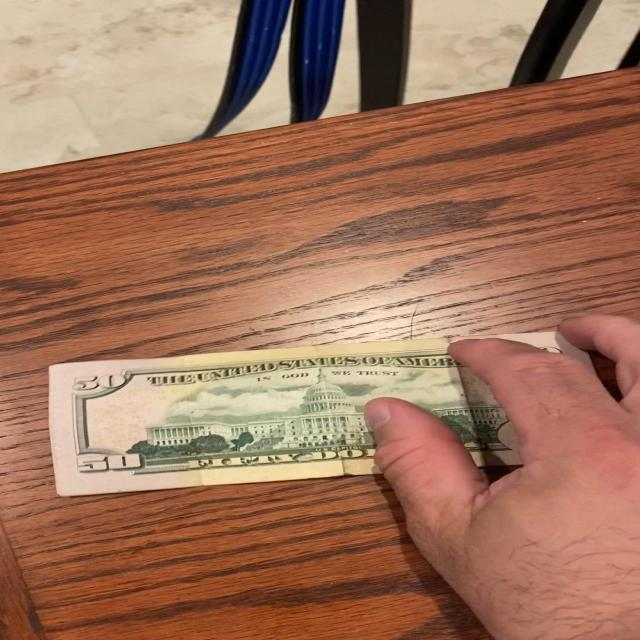50-Back: (43, 325, 620, 508)
